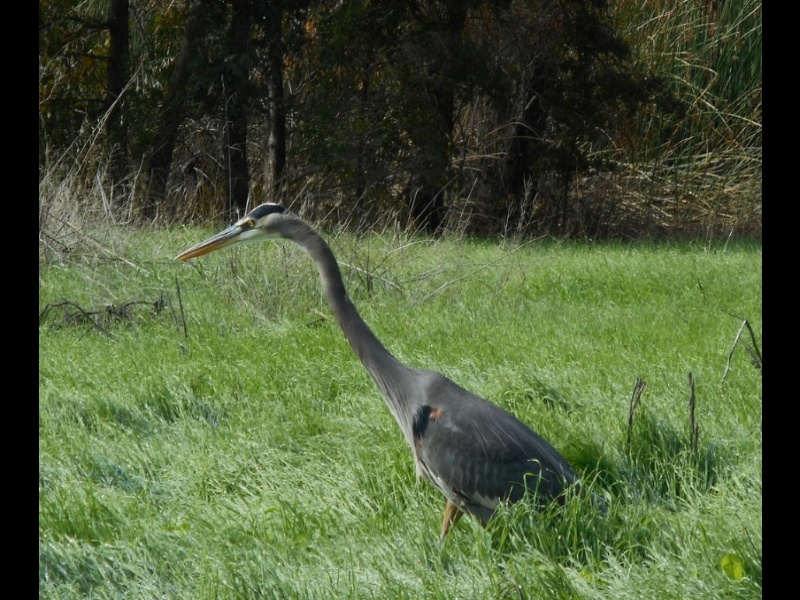heron: (174, 202, 581, 552)
